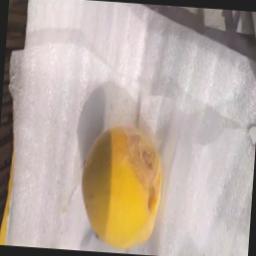Peach Rotten: (70, 114, 184, 252)
